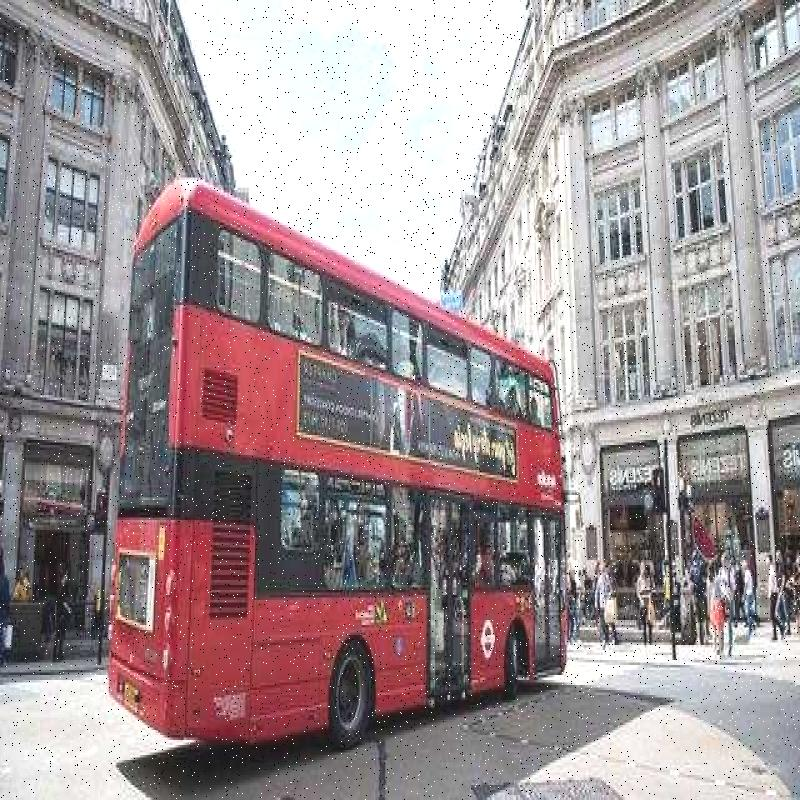bus: (103, 183, 555, 782)
